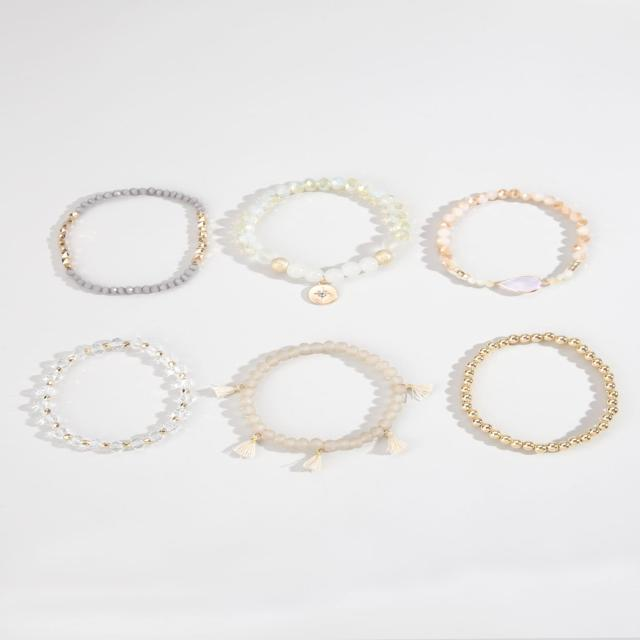bracelet: (200, 300, 444, 478), (10, 297, 220, 496), (31, 144, 226, 339), (416, 145, 618, 322), (425, 304, 640, 468), (214, 151, 420, 321)
